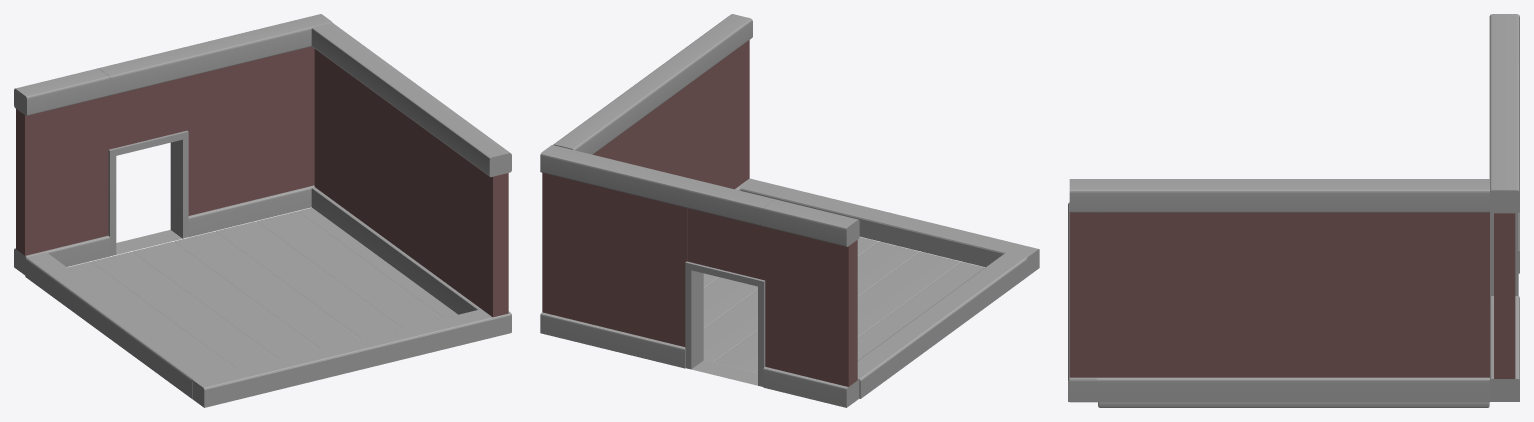
File: room3-3.fbx
3 renders of one model, left to right at view 1: azimuth 30°, elevation 25°; view 2: azimuth 150°, elevation 25°; view 3: azimuth 270°, elevation 25°, orthographic. The views are drawn at different scales.
Parts seen in each view (by area): view 1: Wall71, Wall72, Wall74, Wall76, Door_Frame26, Wall75, Floor36, Floor38, Floor39, Floor37, Floor35, Floor34 (+2 smaller); view 2: Wall72, Wall71, Wall74, Door_Frame26, Wall76, Wall75, Floor35, Floor36, Floor34, Floor37, Wall73, Floor38; view 3: Wall71, Wall72, Floor40, Wall74, Wall73, Door_Frame26, Wall76.
Part boxes in pixels (bbox=[...]): Wall71: bbox=[311, 22, 511, 331]; Wall72: bbox=[98, 14, 332, 237]; Wall74: bbox=[14, 68, 110, 275]; Wall76: bbox=[191, 309, 511, 407]; Door_Frame26: bbox=[108, 77, 188, 256]; Wall75: bbox=[25, 252, 212, 398]; Floor36: bbox=[132, 241, 319, 358]; Floor38: bbox=[215, 221, 401, 338]; Floor39: bbox=[257, 211, 443, 328]; Floor37: bbox=[174, 231, 360, 348]; Floor35: bbox=[91, 252, 277, 368]; Floor34: bbox=[67, 262, 236, 374]; Wall72: bbox=[540, 145, 774, 368]; Wall71: bbox=[553, 14, 752, 190]; Wall74: bbox=[763, 199, 859, 407]; Door_Frame26: bbox=[685, 208, 765, 386]; Wall76: bbox=[739, 179, 1039, 276]; Wall75: bbox=[857, 252, 1027, 398]; Floor35: bbox=[755, 252, 961, 373]; Floor36: bbox=[714, 242, 919, 372]; Floor34: bbox=[857, 262, 984, 360]; Floor37: bbox=[703, 237, 878, 362]; Wall73: bbox=[540, 145, 689, 206]; Floor38: bbox=[703, 277, 757, 328]; Wall71: bbox=[1069, 179, 1489, 402]; Wall72: bbox=[1489, 62, 1519, 401]; Floor40: bbox=[1098, 402, 1489, 407]; Wall74: bbox=[1489, 14, 1519, 273]; Wall73: bbox=[1489, 107, 1519, 189]; Door_Frame26: bbox=[1490, 212, 1518, 296]; Wall76: bbox=[1068, 202, 1096, 401].
Bounding box in the file's own units: 5.1 × 2.93 × 5.49.
